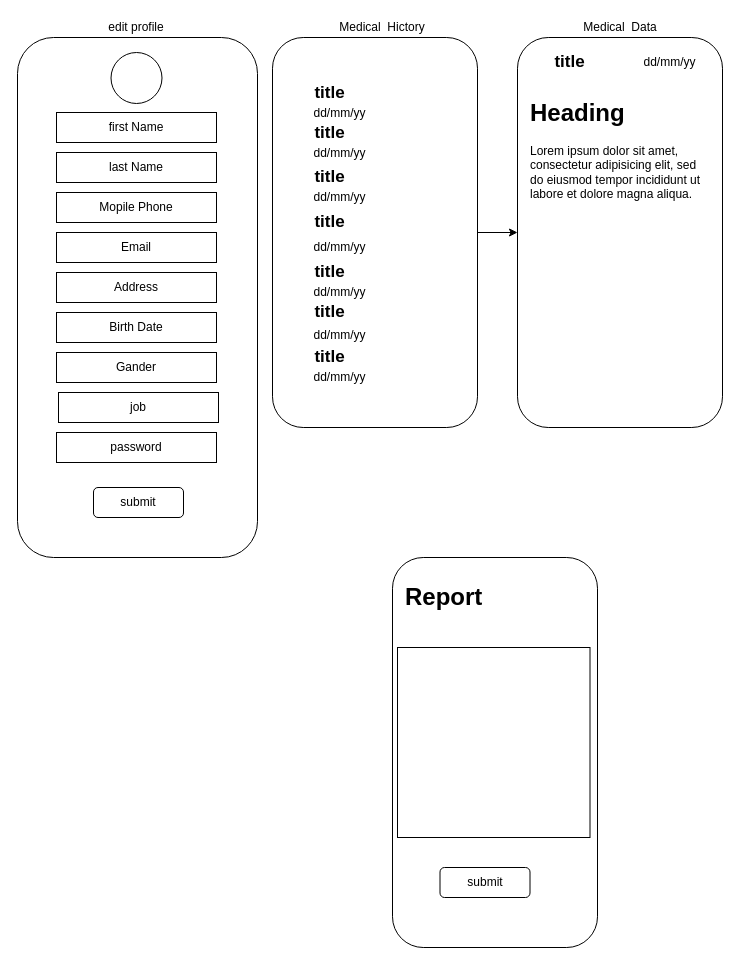
The diagram is 740 pixels wide and 965 high, and some of its shapes have lost their labels. The box of each missing label's shape, as (x1, y1, x2, y2) in pixels:
Give me some text.: (396, 646, 590, 838)
profile photo: (110, 52, 162, 104)
